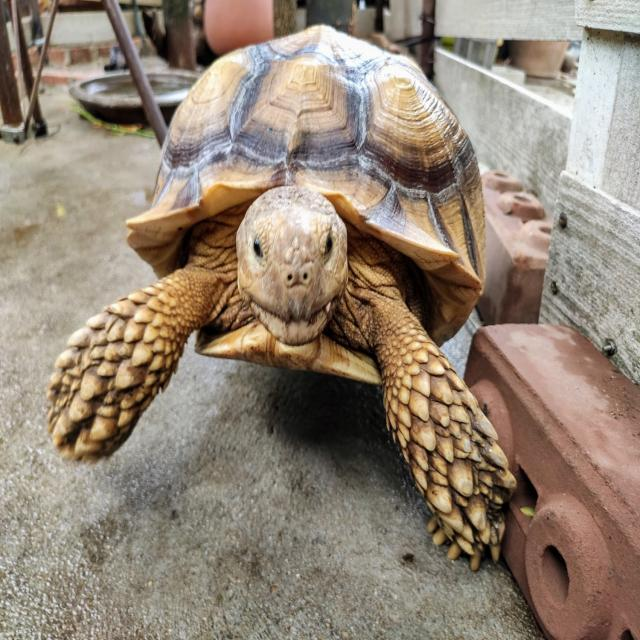Turtle: (224, 181, 361, 343)
